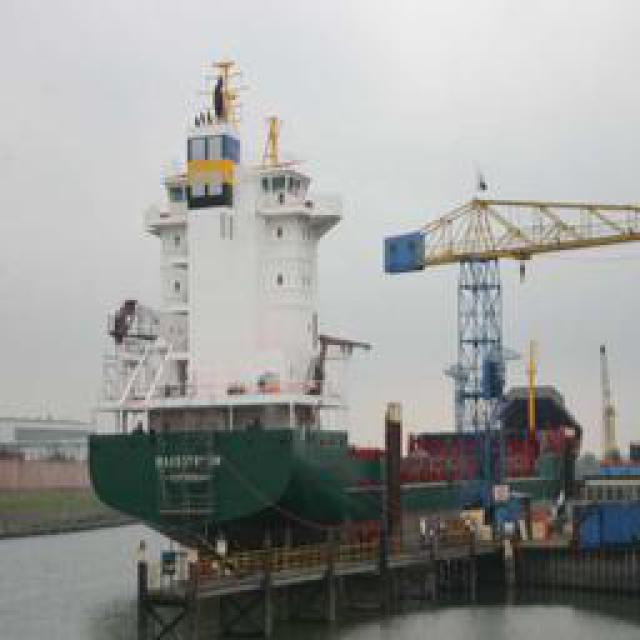Ship: (75, 46, 373, 549)
